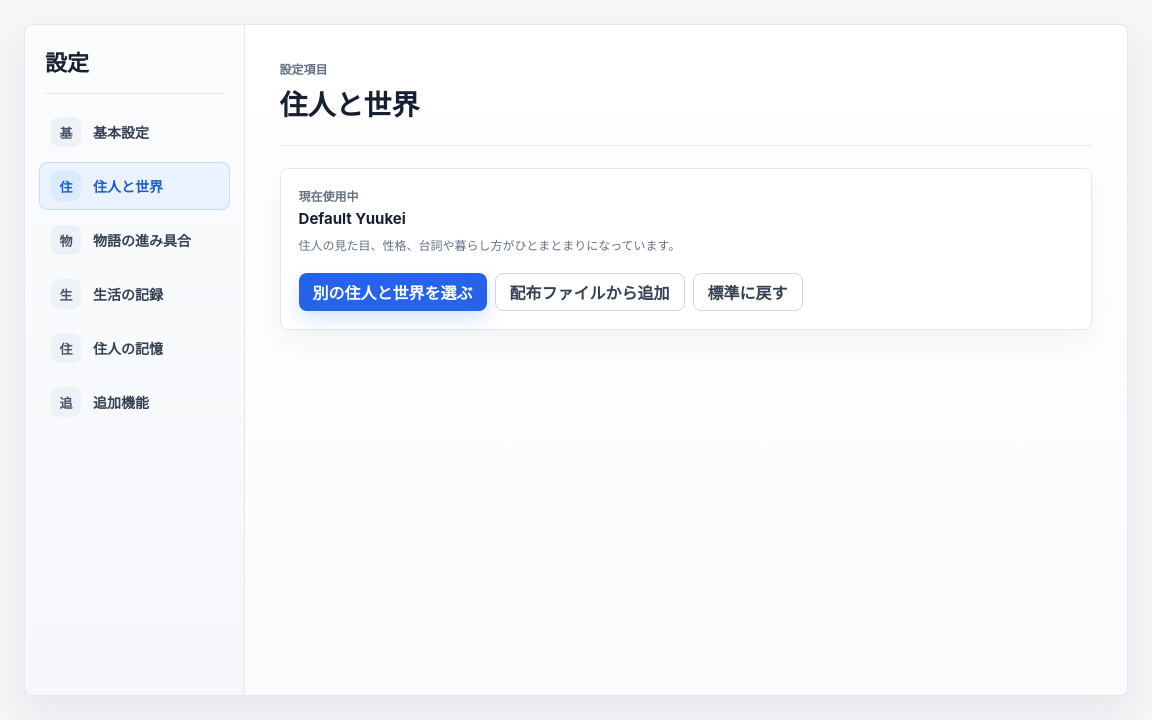
Test case: App › lists event log records with payload summaries
Click the tab "生 生活の記録". click: coordinates (134, 294)
box: [39, 270, 230, 318]
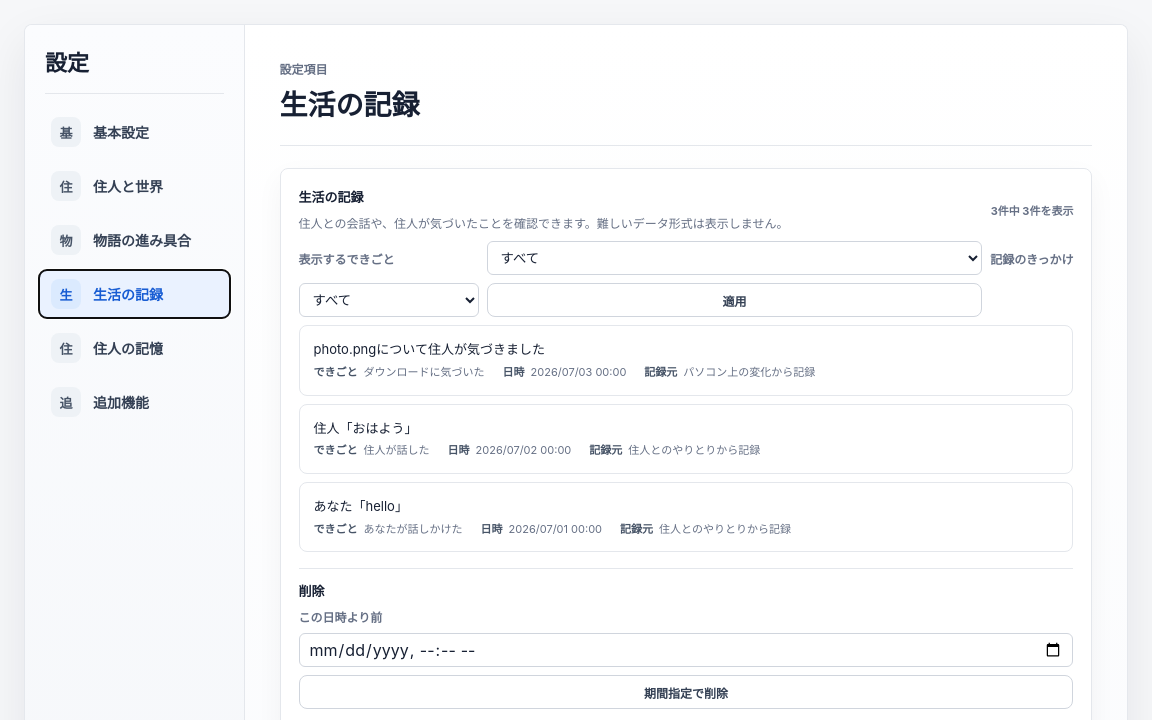
Expected: the text "photo.pngについて住人が気づきました" is shown, [314, 341, 545, 357]
Expected: the text "ダウンロードに気づいた" is shown, [364, 365, 484, 380]
Expected: the text "パソコン上の変化から記録" is shown, [683, 365, 815, 380]
